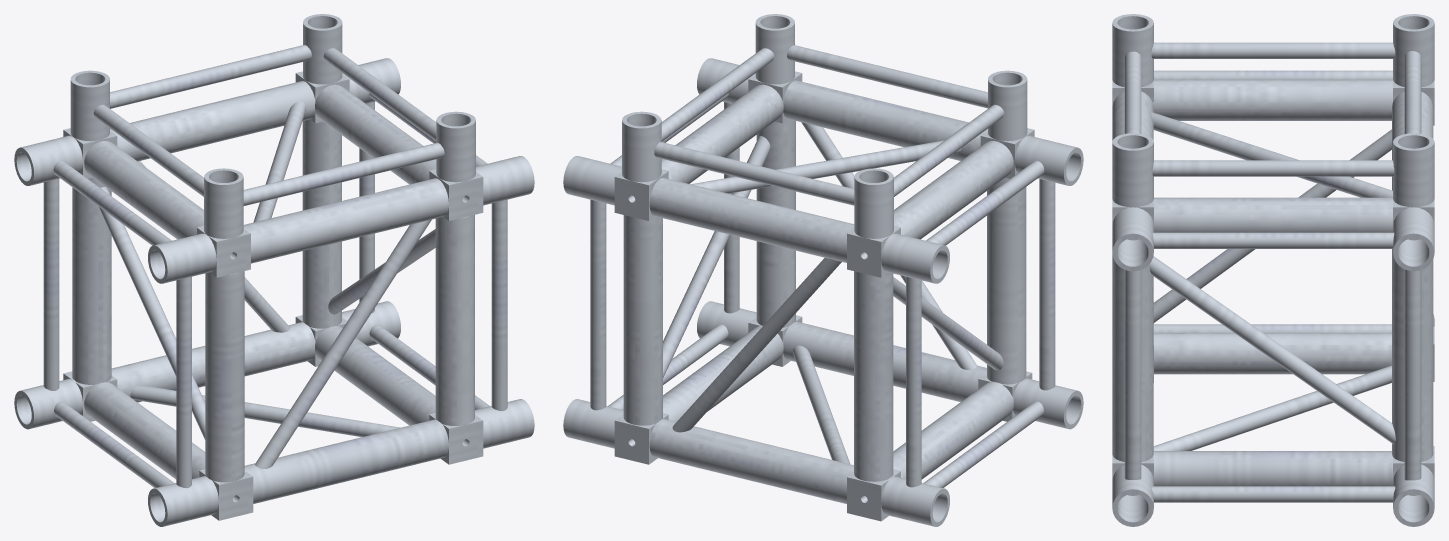
The model's file is Prolyte_H40V_T_piece-45fd16bd.glb.
The picture shows the model from 3 angles, left to right: view 1: azimuth 30°, elevation 25°; view 2: azimuth 150°, elevation 25°; view 3: azimuth 270°, elevation 25°; orthographic projection. The views are drawn at different scales.
Parts seen in each view (by area): view 1: Geom3D (×3), Geom3D_ (×12), Geom3D_Component#3 (×12), Geom3D_Component#4 (×6), Geom3D_Component#2 (×4); view 2: Geom3D (×3), Geom3D_ (×12), Geom3D_Component#3 (×12), Geom3D_Component#4 (×6), Geom3D_Component#2 (×4); view 3: Geom3D (×3), Geom3D_ (×10), Geom3D_Component#3 (×8), Geom3D_Component#4 (×4).
Boxes of the visible parts, bbox=[...] form: Geom3D (×3): bbox=[72, 81, 474, 503]; Geom3D_ (×12): bbox=[43, 45, 507, 488]; Geom3D_Component#3 (×12): bbox=[14, 14, 534, 526]; Geom3D_Component#4 (×6): bbox=[98, 101, 435, 468]; Geom3D_Component#2 (×4): bbox=[197, 169, 483, 520]; Geom3D (×3): bbox=[623, 80, 1026, 503]; Geom3D_ (×12): bbox=[590, 45, 1055, 487]; Geom3D_Component#3 (×12): bbox=[563, 14, 1083, 526]; Geom3D_Component#4 (×6): bbox=[663, 122, 1003, 464]; Geom3D_Component#2 (×4): bbox=[614, 169, 900, 521]; Geom3D (×3): bbox=[1112, 79, 1433, 486]; Geom3D_ (×10): bbox=[1124, 42, 1421, 502]; Geom3D_Component#3 (×8): bbox=[1112, 14, 1434, 526]; Geom3D_Component#4 (×4): bbox=[1149, 112, 1395, 450].
Bounding box in the file's own units: 0.5354 × 0.4647 × 0.3874.
2 materials, 2 textured.
